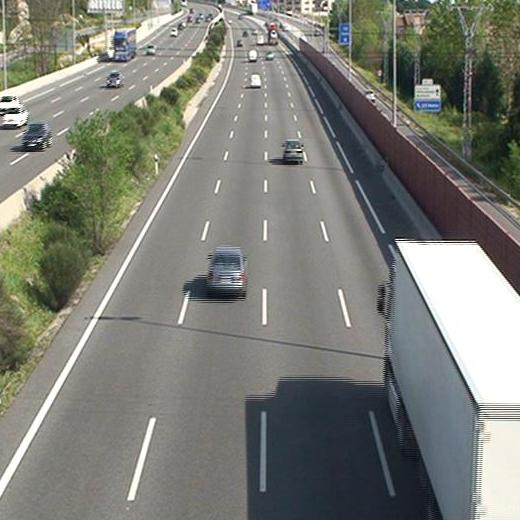car: (206, 248, 246, 295), (283, 139, 303, 162), (248, 74, 261, 86), (264, 50, 274, 58)
truck: (380, 241, 520, 520)
van: (248, 48, 258, 61)
